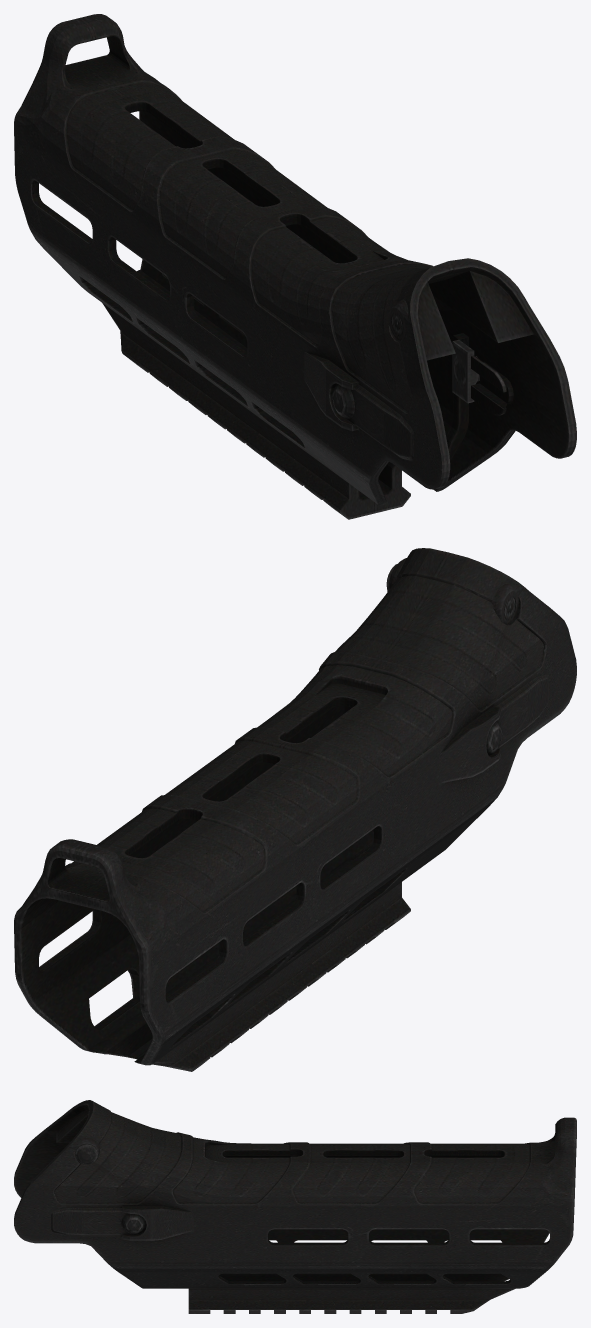
The picture shows the model from 3 angles, top to bottom: view 1: azimuth 30°, elevation 25°; view 2: azimuth 150°, elevation 25°; view 3: azimuth 270°, elevation 25°; orthographic projection. The views are drawn at different scales.
Parts seen in each view (by area): view 1: TW_5dcbd6b46ec07c0c4347a564_PZ_Import; view 2: TW_5dcbd6b46ec07c0c4347a564_PZ_Import; view 3: TW_5dcbd6b46ec07c0c4347a564_PZ_Import.
Boxes of the visible parts, x1,y1,x2,y2 form: TW_5dcbd6b46ec07c0c4347a564_PZ_Import: [14, 14, 576, 519]; TW_5dcbd6b46ec07c0c4347a564_PZ_Import: [14, 548, 576, 1071]; TW_5dcbd6b46ec07c0c4347a564_PZ_Import: [14, 1100, 576, 1313].
Size of the model in its own units: 0.0274 by 0.1291 by 0.0504.
1 material, 1 textured.
